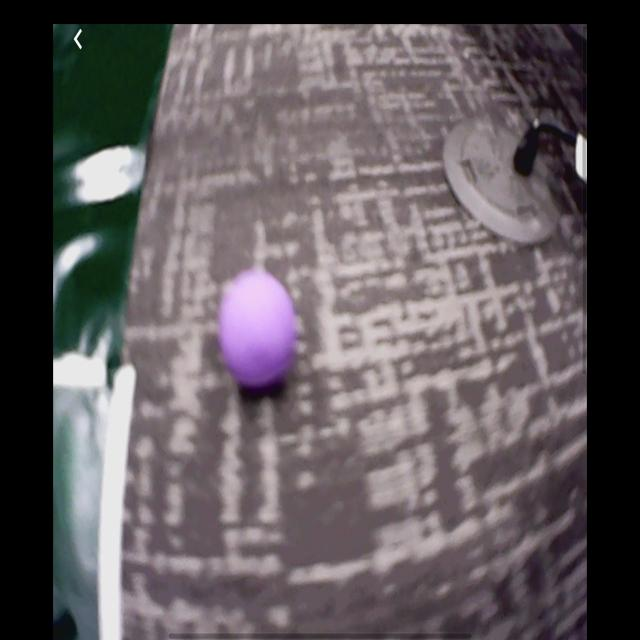ball: (218, 273, 297, 388)
